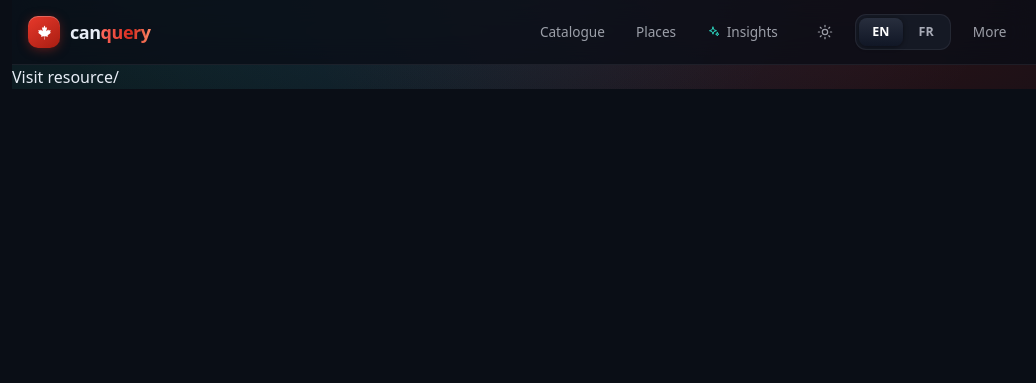
Test: the About us link navigates, closes the panel and marks its current route
Click the button with aria-label "Open navigation menu" at (990, 32), box top-left (959, 10), bottom-right (1020, 54)
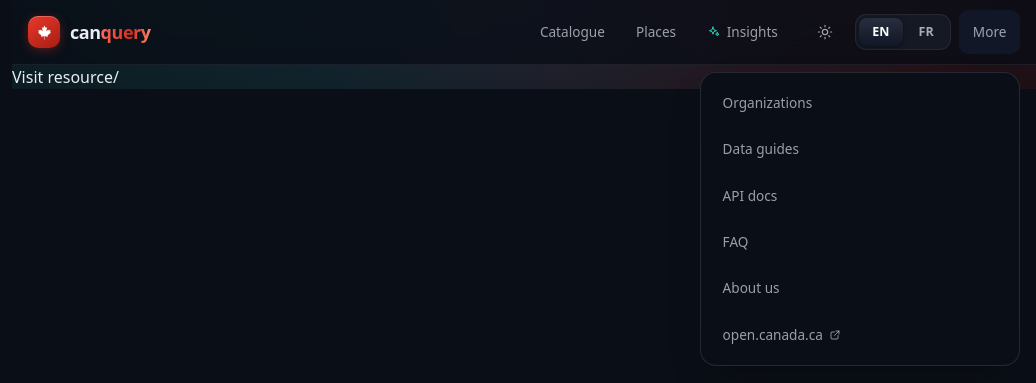
Click the link "About us" at (751, 288), box top-left (723, 278), bottom-right (780, 297)
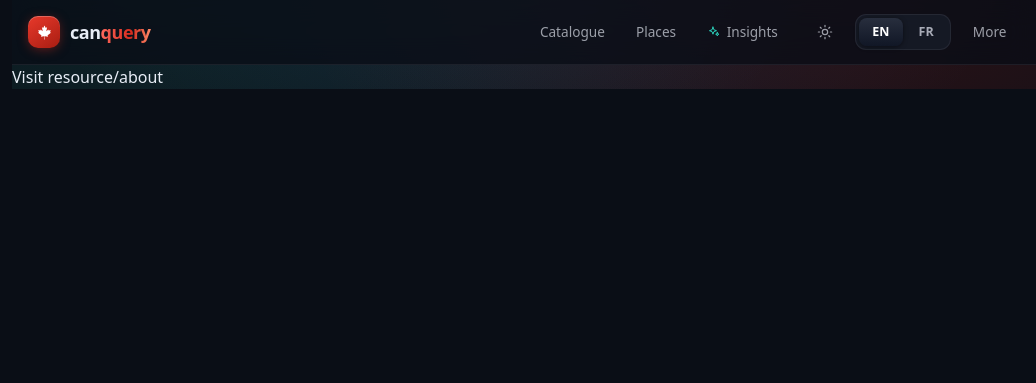
Now the text with test id "location" reads "/about", box top-left (113, 66), bottom-right (163, 88)
Now the navigation bar "Navigation" is gone
Click the button with aria-label "Open navigation menu" at (990, 32), box top-left (959, 10), bottom-right (1020, 54)
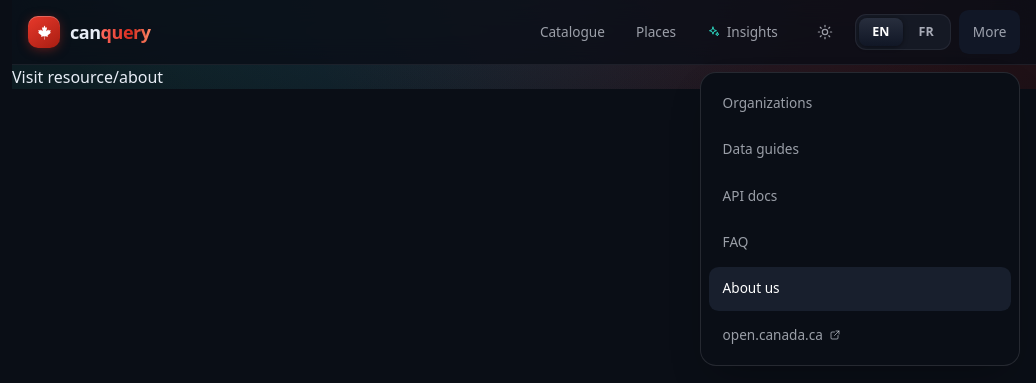
Now the link "About us" is marked as current
Click the link "About us" at (751, 288), box top-left (709, 267), bottom-right (1011, 311)
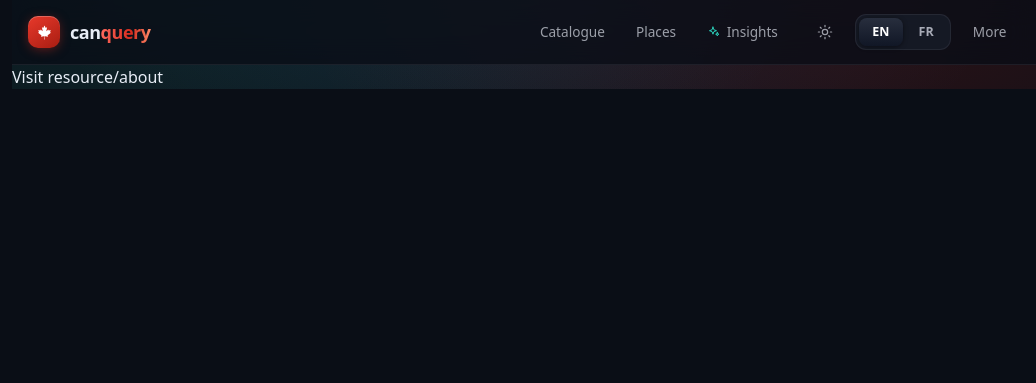
Now the navigation bar "Navigation" is gone
